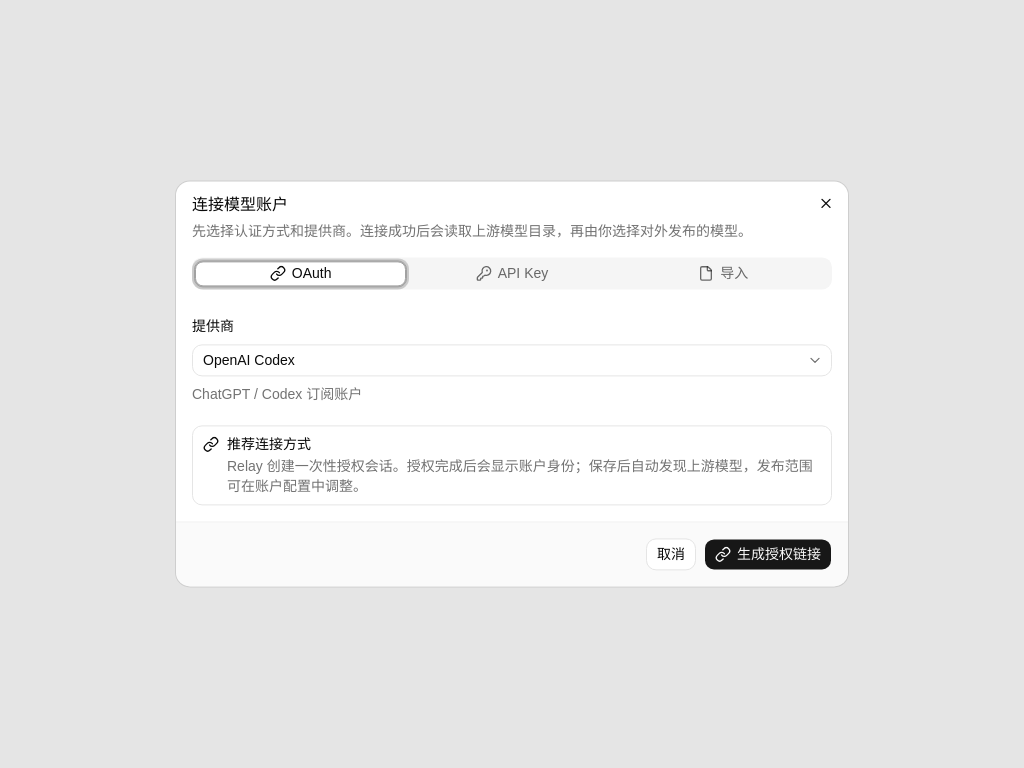
connect account dialog › explains that discovered models are published automatically for API keys
Click the tab "API Key". click: click(512, 273)
box: [406,261,618,286]
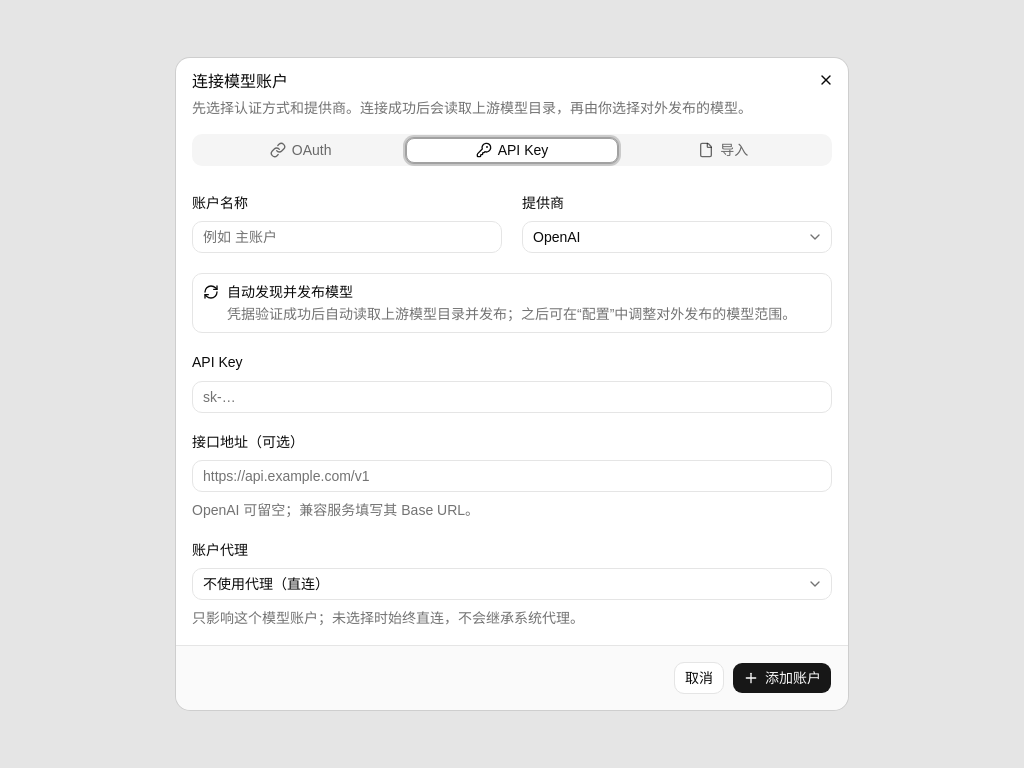
Check: the text "凭据验证成功后自动读取上游模型目录并发布；之后可在“配置”中调整对外发布的模型范围。" is shown, box [227,304,821,324]
